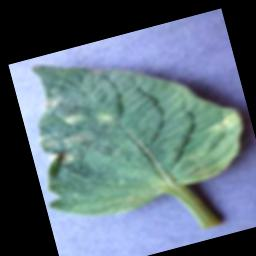Leaf_Mold: (28, 82, 124, 168), (205, 105, 245, 137)
